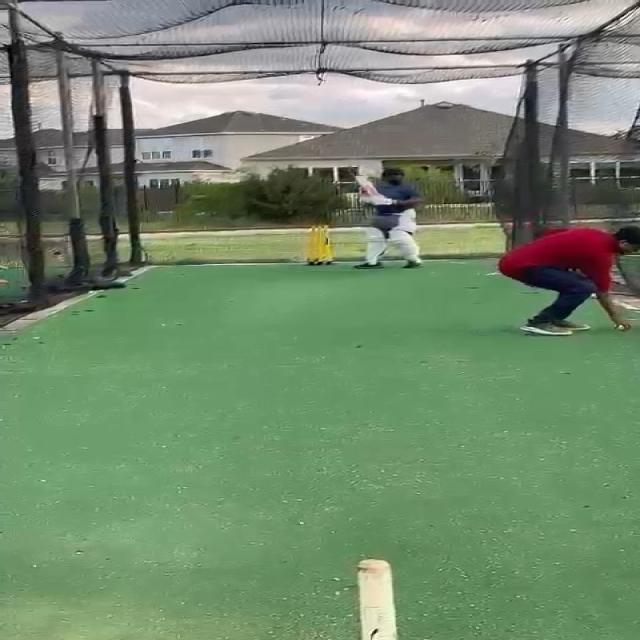batsman: (348, 167, 430, 270)
